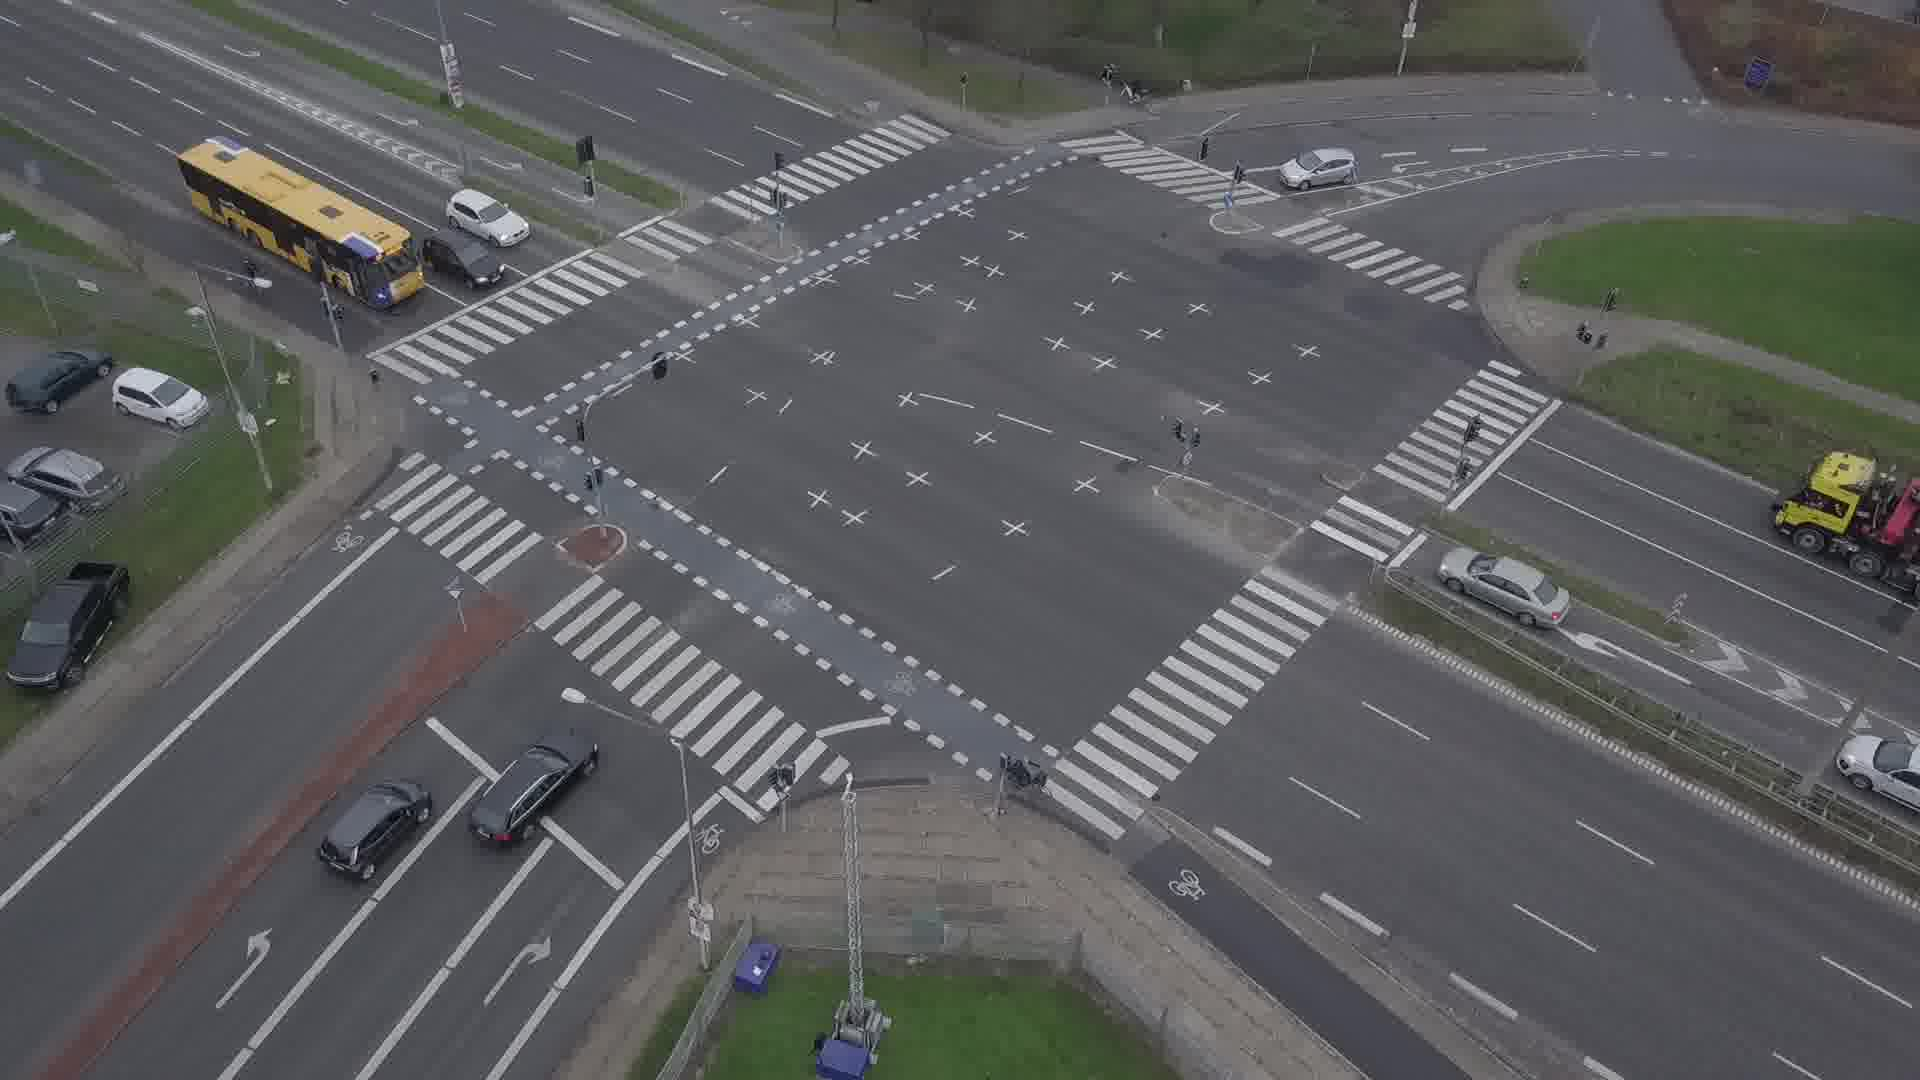bicycle: (994, 755, 1054, 802), (236, 257, 264, 292), (1113, 77, 1146, 106)
bus: (177, 134, 425, 308)
car: (466, 724, 601, 850), (316, 777, 433, 881), (1438, 547, 1573, 629), (1836, 734, 1920, 812), (420, 231, 505, 291), (446, 189, 530, 247), (1279, 149, 1359, 191)
lorry: (1768, 452, 1920, 602)
